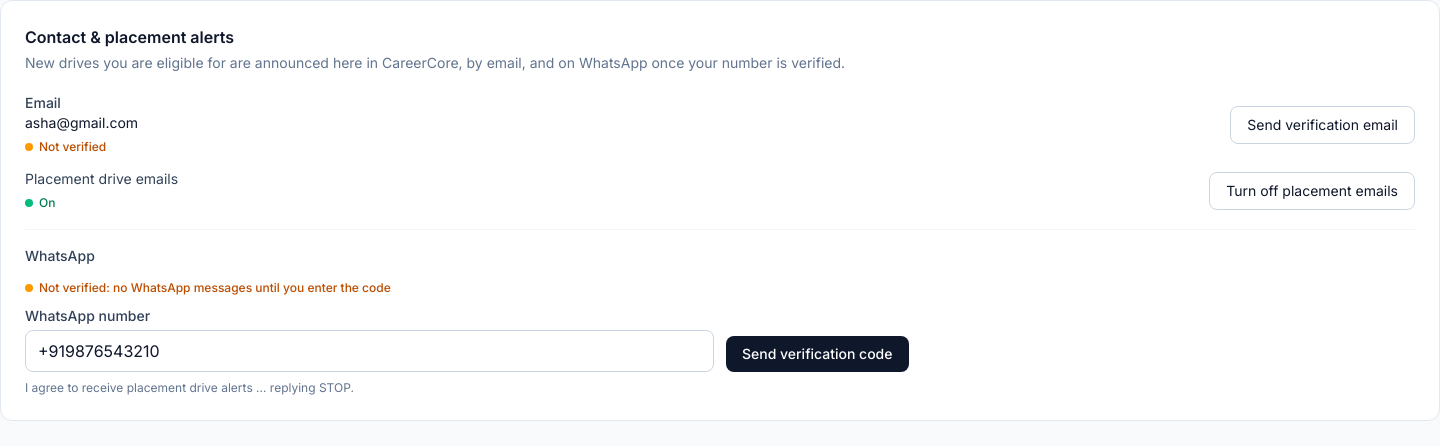
Test: contact & alerts section › a wrong code shows the server's message; stop and resume alerts on a verified number
The image size is (1440, 446).
Later steps or results of the test are not shown.
Step 1. Click the button "Send verification code" → (817, 354), box [726, 336, 908, 372]
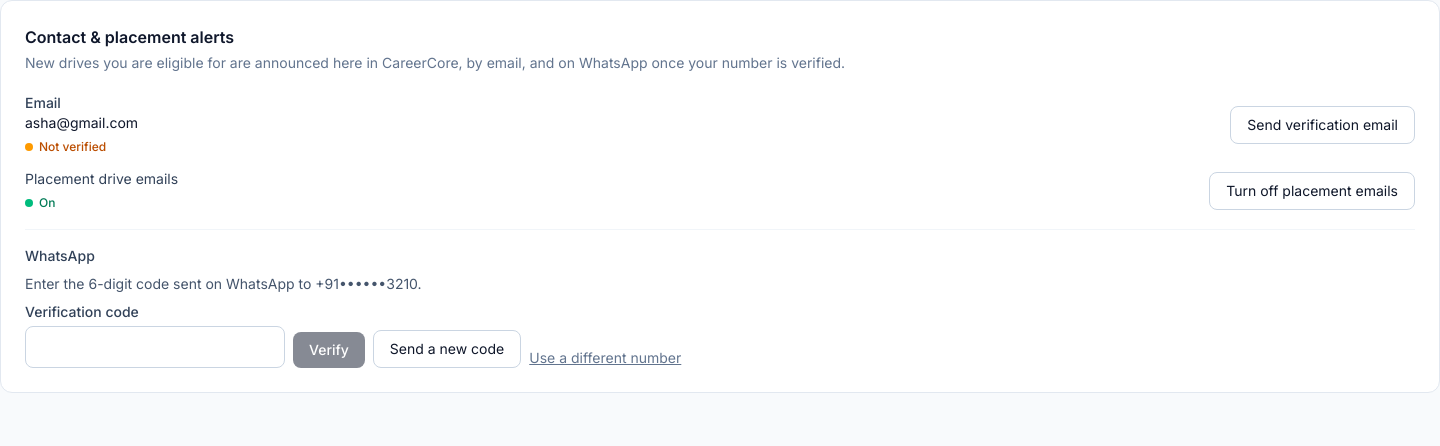
Step 2. Type "000000" into the field labelled "Verification code" → (155, 347), box [25, 326, 285, 368]
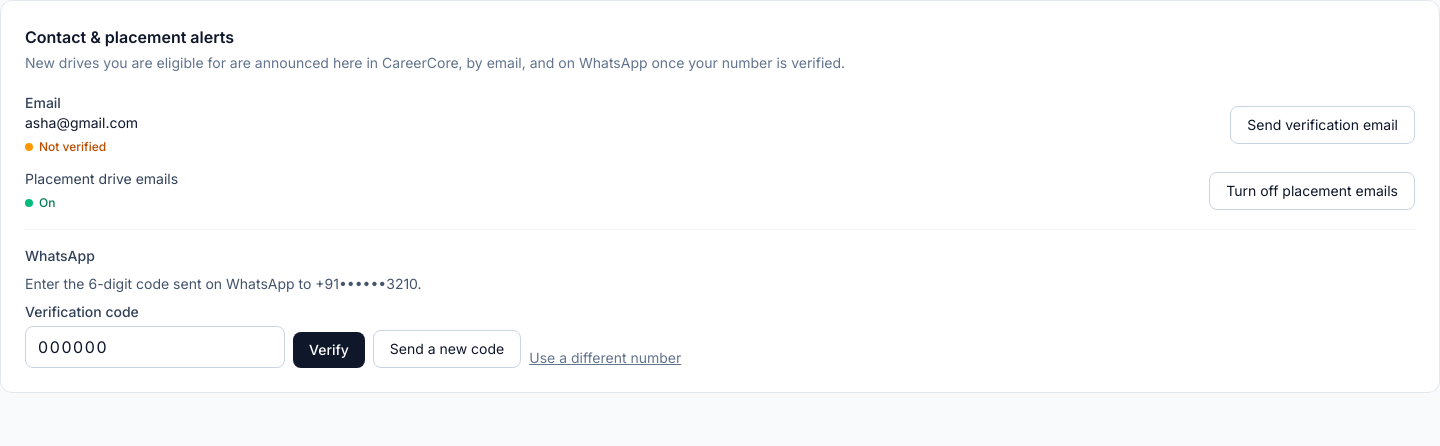
Step 3. Click the button "Verify" → (329, 350), box [293, 332, 365, 368]
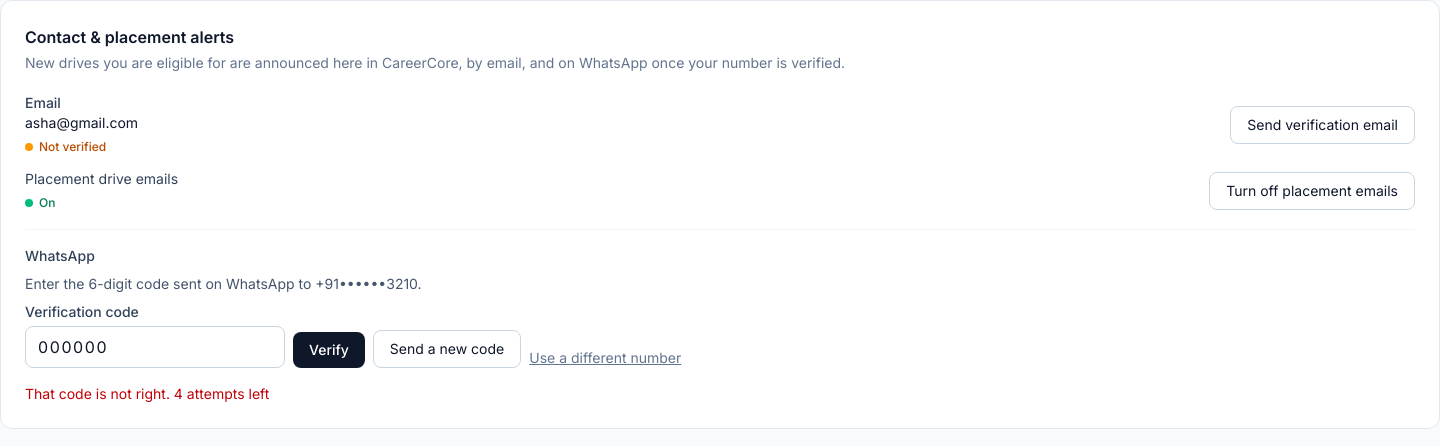
Expected: the text "That code is not right. 4 attempts left" is shown, [25, 385, 269, 402]
